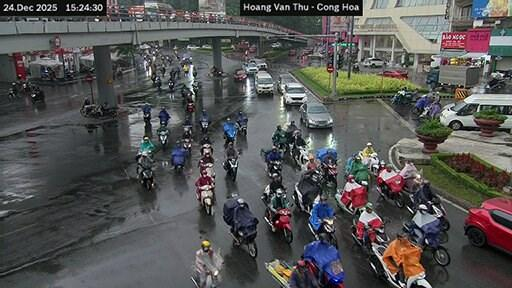motorbike: (367, 243, 431, 287), (403, 217, 448, 265), (223, 197, 258, 256), (351, 219, 389, 252), (191, 250, 221, 287), (333, 185, 367, 216), (291, 179, 320, 212), (263, 208, 290, 243), (377, 174, 403, 206), (230, 230, 256, 256), (320, 259, 344, 287), (431, 202, 450, 230), (319, 216, 336, 247), (432, 202, 450, 230), (400, 171, 422, 193), (198, 185, 214, 214), (191, 270, 217, 287), (320, 163, 336, 189), (410, 94, 428, 115), (90, 104, 118, 117), (290, 145, 307, 166), (137, 167, 153, 189), (368, 153, 384, 175), (483, 76, 505, 91), (224, 157, 236, 180), (391, 90, 412, 103), (266, 160, 281, 176), (405, 193, 415, 214), (201, 162, 214, 178), (80, 104, 96, 116), (224, 129, 236, 144), (157, 130, 167, 148), (172, 157, 184, 171), (307, 220, 316, 238), (182, 136, 191, 153), (64, 67, 76, 79), (21, 80, 32, 93), (236, 121, 246, 135), (32, 91, 44, 102), (307, 261, 317, 274), (7, 88, 19, 98), (201, 143, 211, 154), (199, 121, 208, 133), (185, 103, 194, 112), (425, 214, 438, 220), (154, 77, 160, 90), (144, 112, 150, 125), (192, 82, 198, 94), (167, 80, 173, 91), (159, 117, 167, 125), (150, 72, 156, 82), (352, 63, 358, 72), (85, 115, 86, 116)
